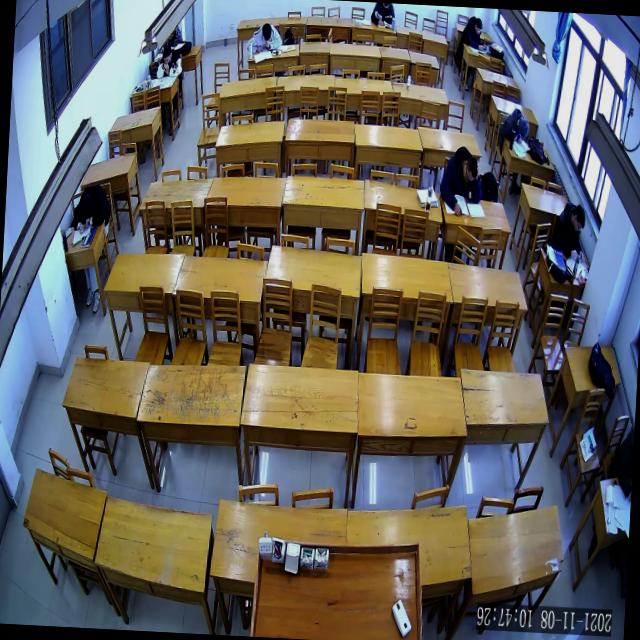bow: (68, 182, 113, 236), (246, 19, 282, 56), (498, 106, 531, 146)
down: (78, 193, 98, 223), (460, 156, 480, 186), (572, 203, 587, 235), (516, 117, 531, 142), (260, 22, 274, 46), (160, 45, 173, 66), (472, 17, 484, 38)
sit: (438, 144, 485, 219), (551, 199, 587, 261), (156, 42, 184, 81), (462, 14, 488, 52)
